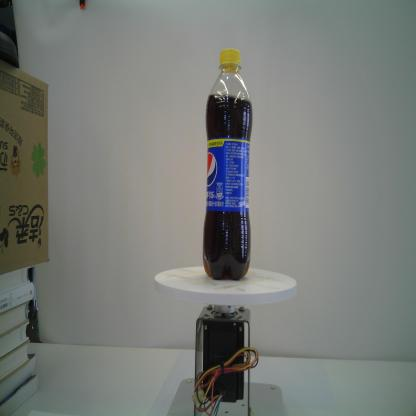Drink: (202, 48, 252, 281)
